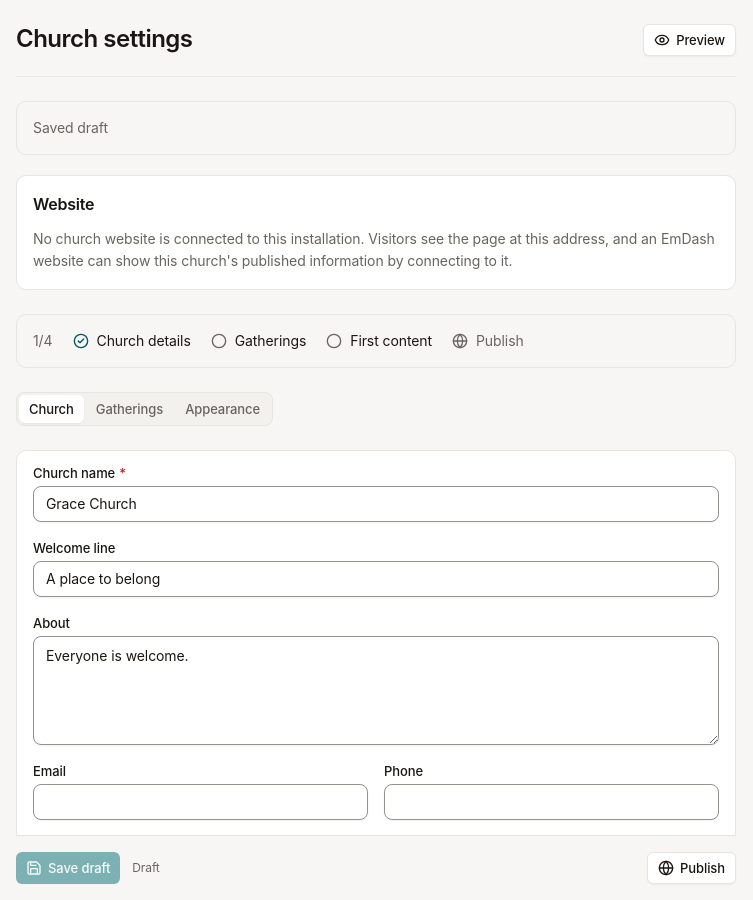
Test: preserves edits after a conflict until the owner explicitly reloads
Click the tab "Appearance" at (223, 409), box 175,395 -> 270,423
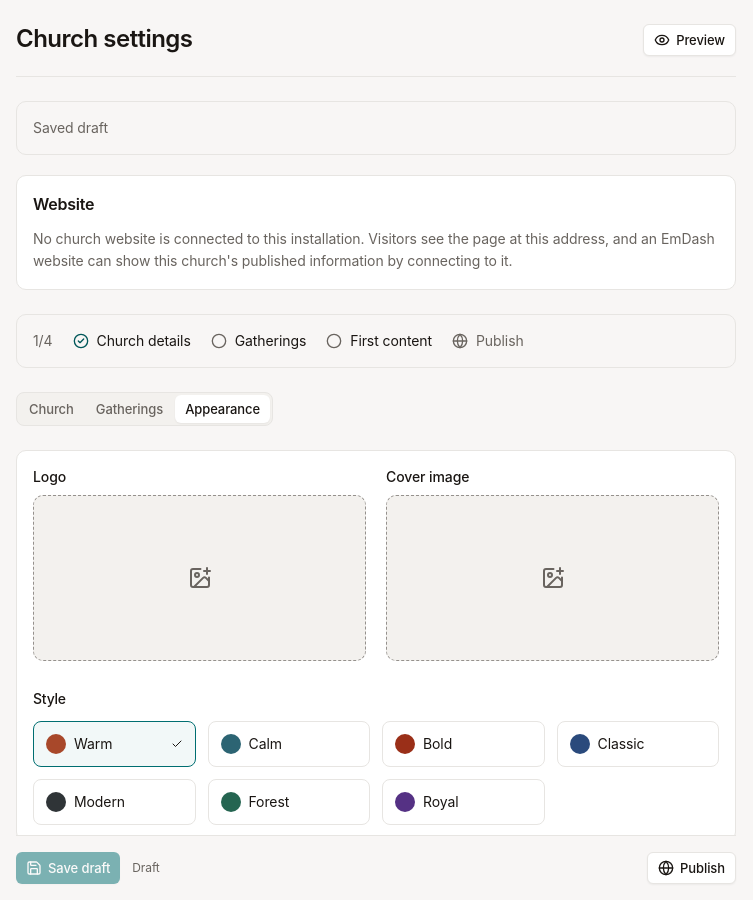
Expected: the button "forest" is shown
Click the button "forest" at (289, 802), box 208,779 -> 370,825
(page scrolled)
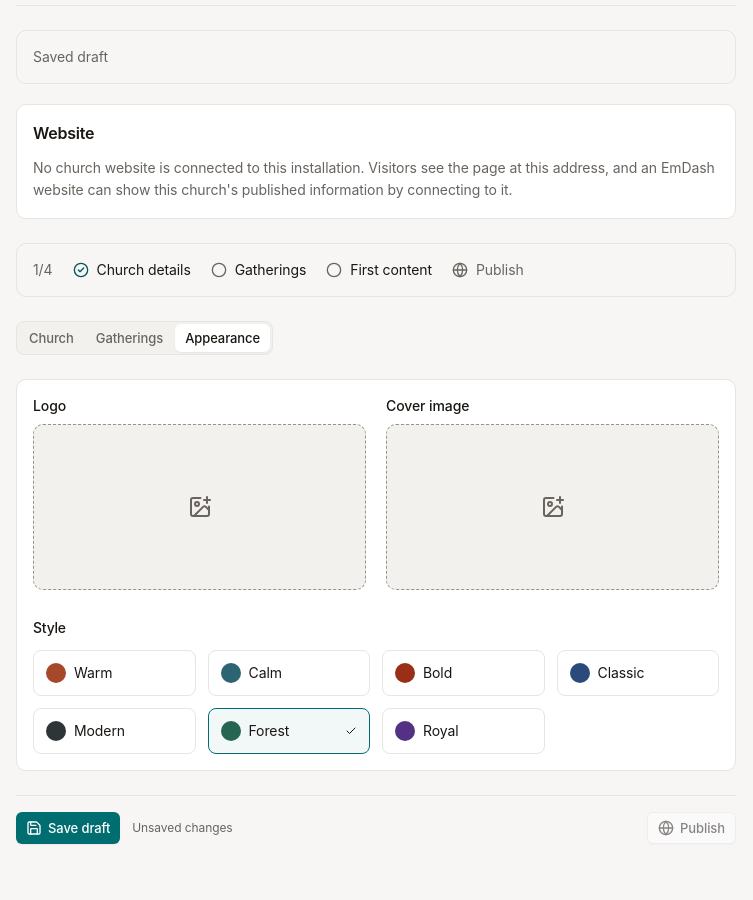
Submit the form, box 16,379 -> 736,860
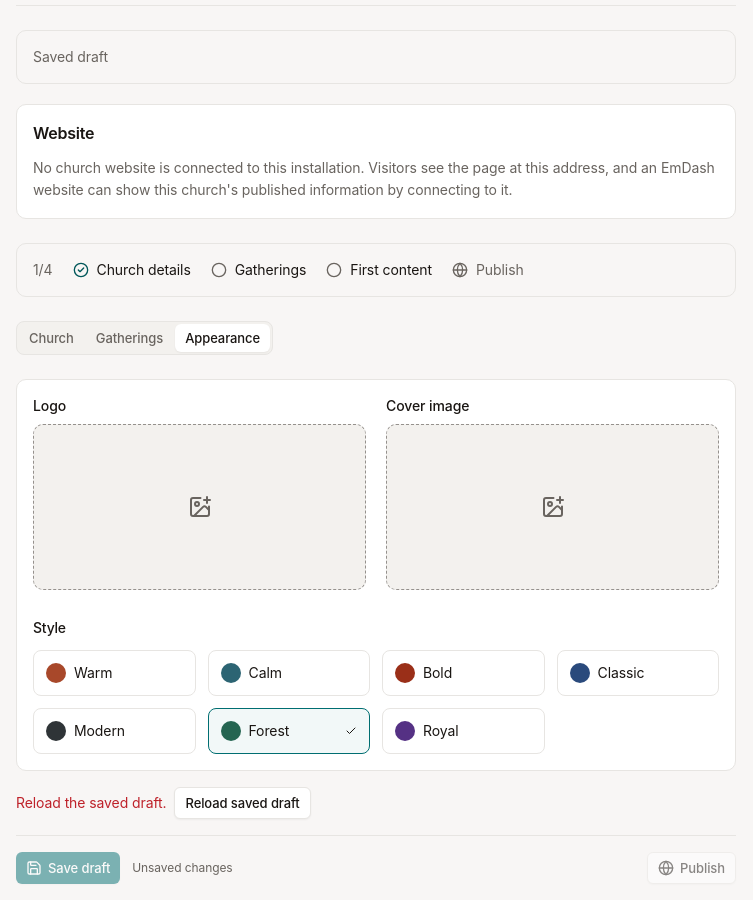
Expected: the button "Save draft" is disabled, 16,852 -> 120,884
Expected: the button "Reload saved draft" is shown
Click the button "Reload saved draft" at (243, 803), box 174,787 -> 311,819
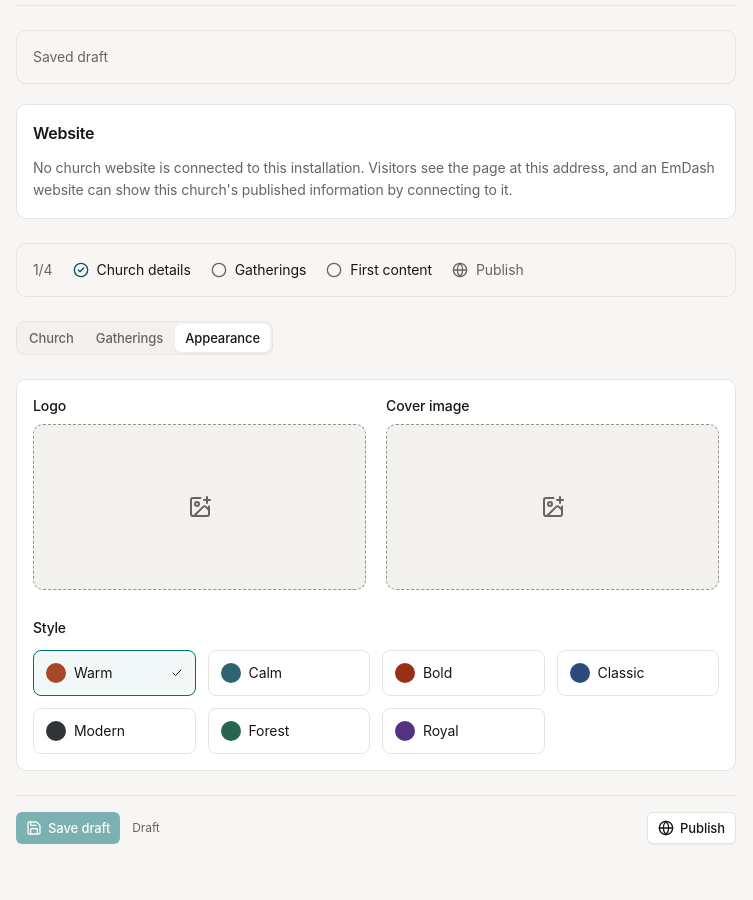
Expected: the button "warm" is shown, 33,650 -> 196,696
Expected: the message "Reload the saved draft. Reload saved draft" is gone
